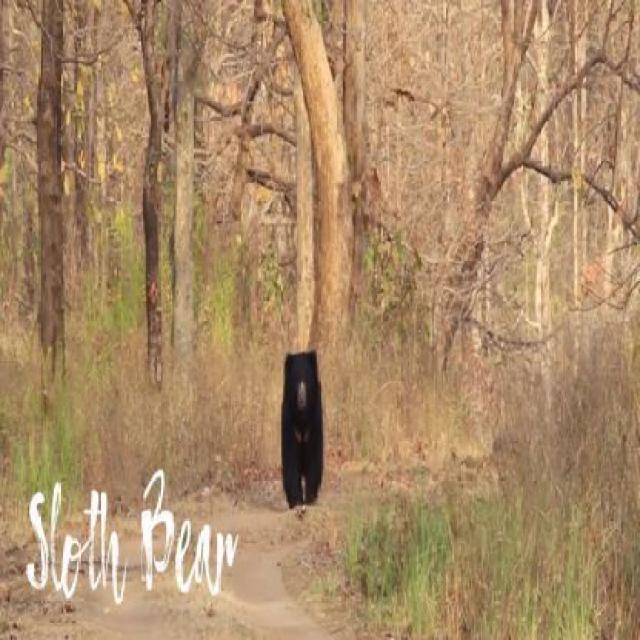Bear: (273, 336, 335, 521)
